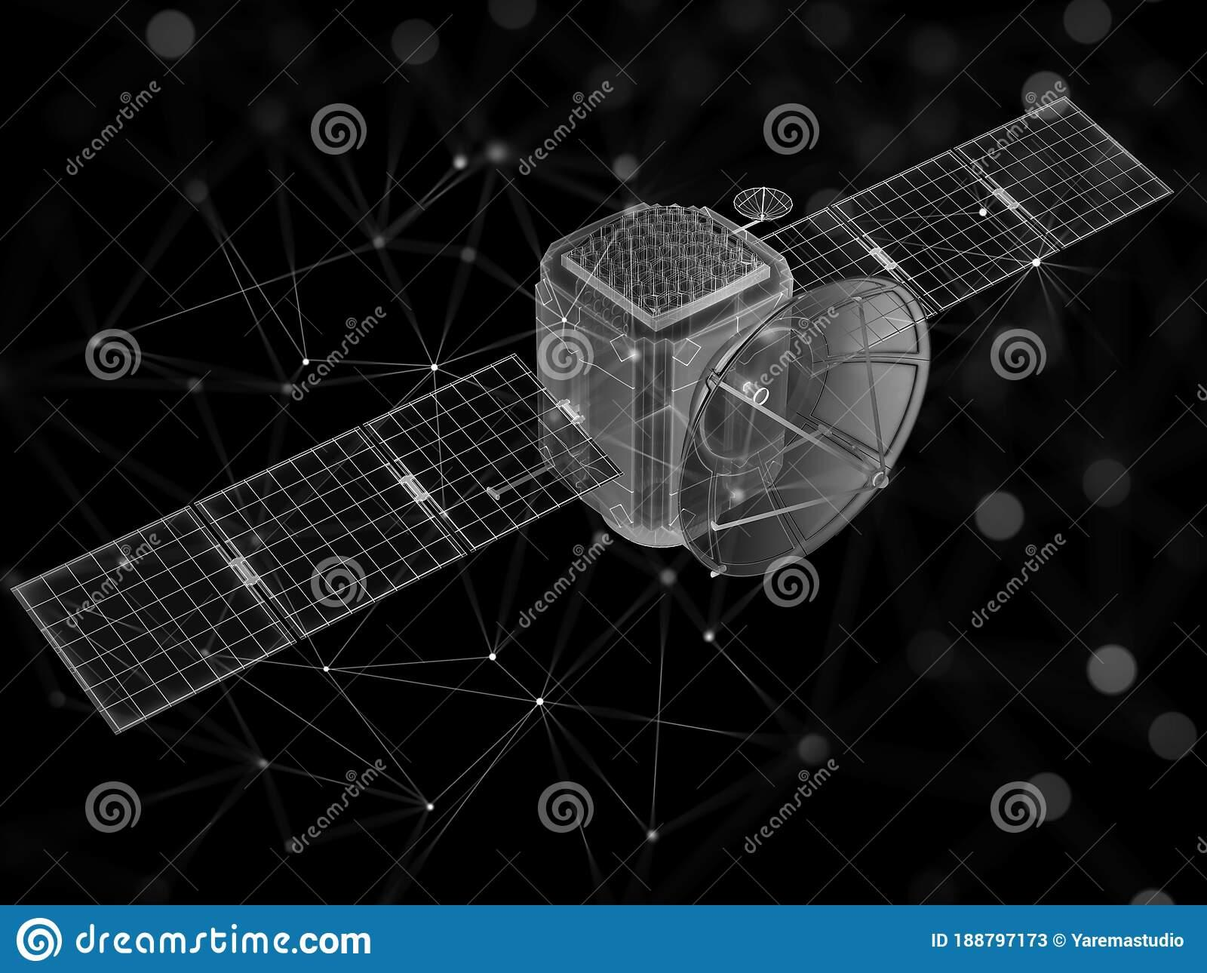antenna: (674, 270, 936, 582), (732, 183, 795, 223)
body: (524, 199, 799, 550)
solar: (9, 351, 629, 740), (743, 93, 1177, 380)
